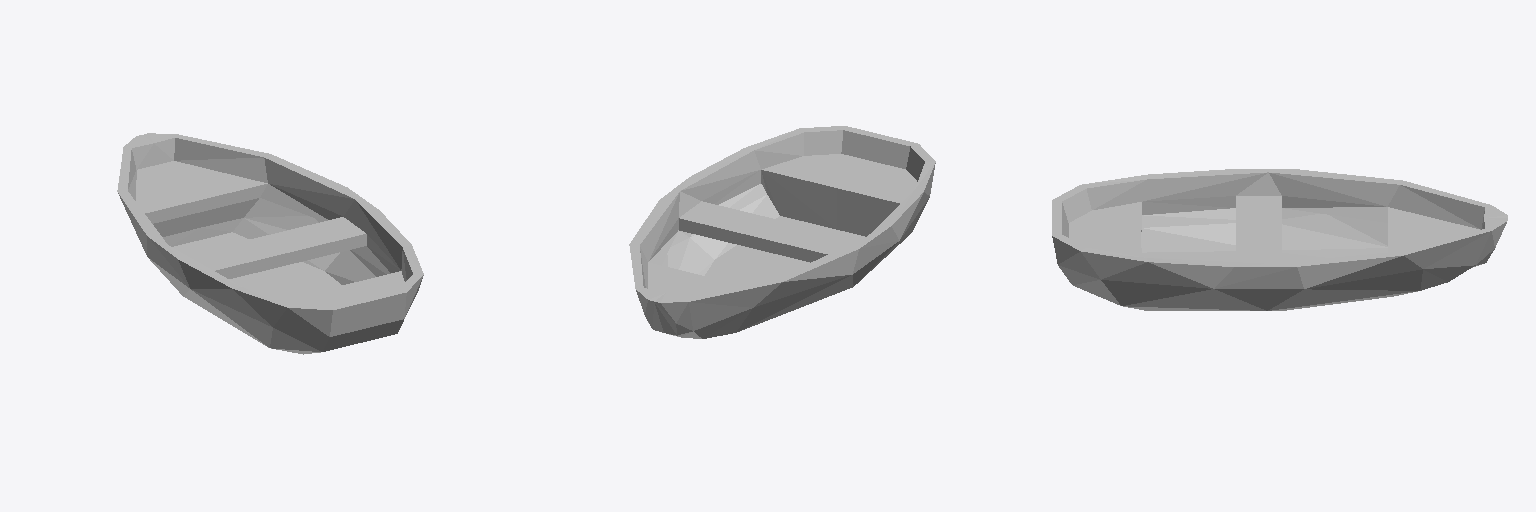
File: Rowboat.obj
The picture shows the model from 3 angles: view 1: azimuth 30°, elevation 25°; view 2: azimuth 150°, elevation 25°; view 3: azimuth 270°, elevation 25°; orthographic projection.
Parts seen in each view (by area): view 1: Cube; view 2: Cube; view 3: Cube.
Boxes of the visible parts, box(x1,y1,x2,y2) form: Cube: box(117, 133, 423, 354); Cube: box(629, 126, 935, 338); Cube: box(1052, 169, 1507, 310).
Size of the model in its own units: 0.9489 by 0.3412 by 1.86.